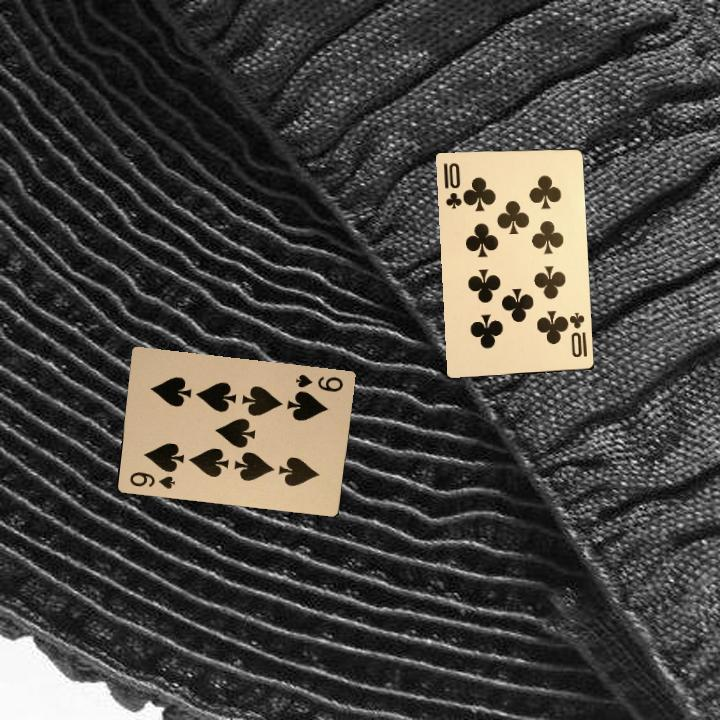10c: (561, 308, 590, 360), (439, 159, 467, 212)
9s: (292, 370, 345, 394), (125, 468, 178, 491)
